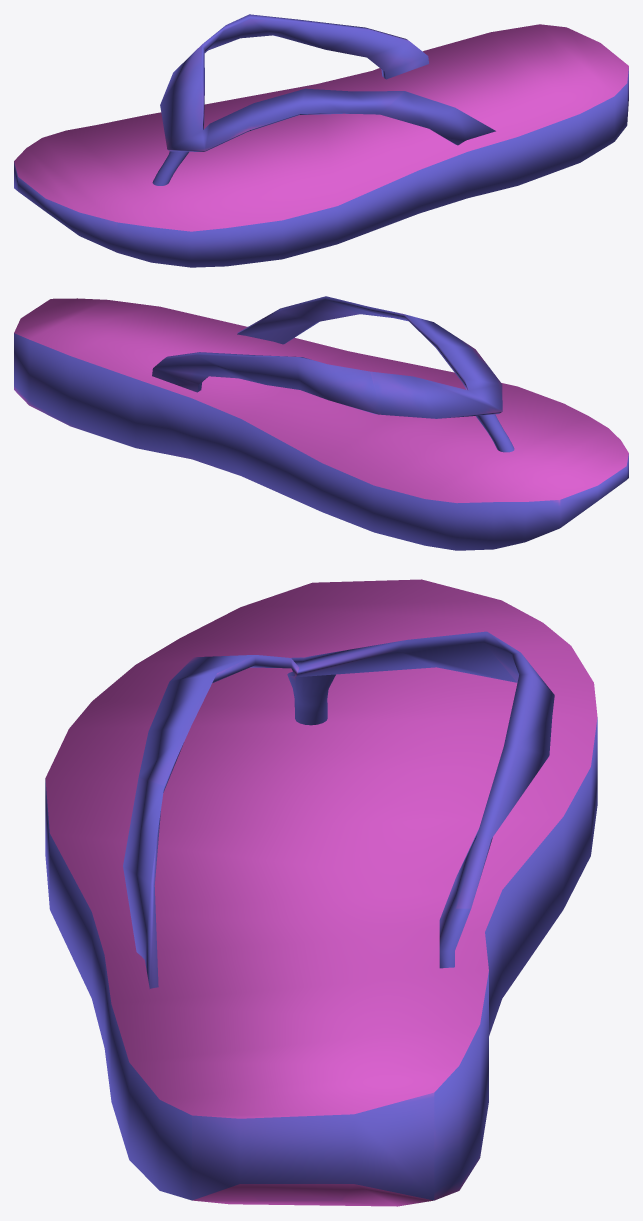
Rendered from Chancla_V2.fbx.
3 views of the same model, one above another, from view 1: azimuth 30°, elevation 25°; view 2: azimuth 150°, elevation 25°; view 3: azimuth 270°, elevation 25° (orthographic). The views are drawn at different scales.
Visible parts, largest first — view 1: Chancla; view 2: Chancla; view 3: Chancla.
Boxes of the visible parts, x1,y1,x2,y2 form: Chancla: (14,14,628,267); Chancla: (14,296,628,550); Chancla: (45,579,597,1206).
Bounding box in the file's own units: 87.51 × 19.86 × 37.
